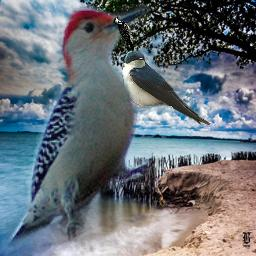Swallow: (122, 50, 211, 126)
Woodpecker: (6, 4, 153, 248), (113, 14, 134, 53)
